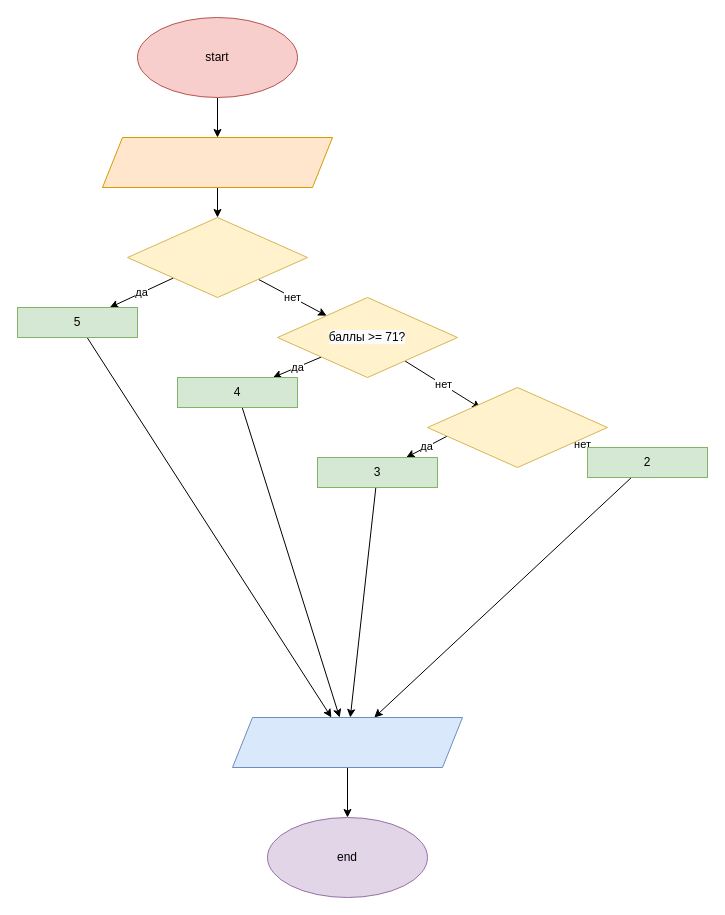
Image size: 725x915. Some labels were removed from this diagram. The centre of each missing label's shape, as x and y in pixels:
"баллы >= 51?" belongs at (517,427).
"баллы >= 91?" belongs at (217,257).
"ввод:баллы" belongs at (217,162).
"вывод: баллы" belongs at (347,742).
